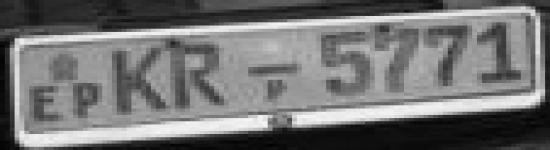-: (244, 60, 302, 81)
1: (474, 19, 530, 86)
5: (316, 28, 378, 99)
7: (421, 20, 477, 94), (373, 21, 424, 98)
E: (26, 84, 70, 123)
K: (107, 48, 168, 115)
P: (70, 82, 108, 120)
R: (166, 40, 232, 112)
